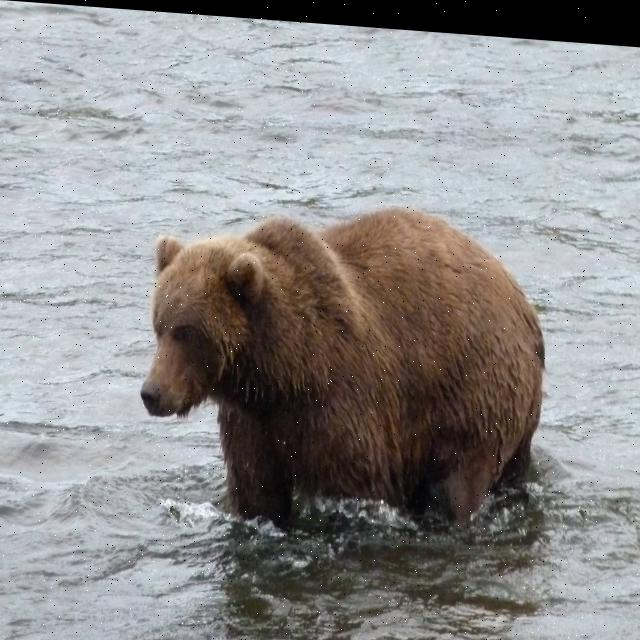bear face: (138, 190, 543, 509)
